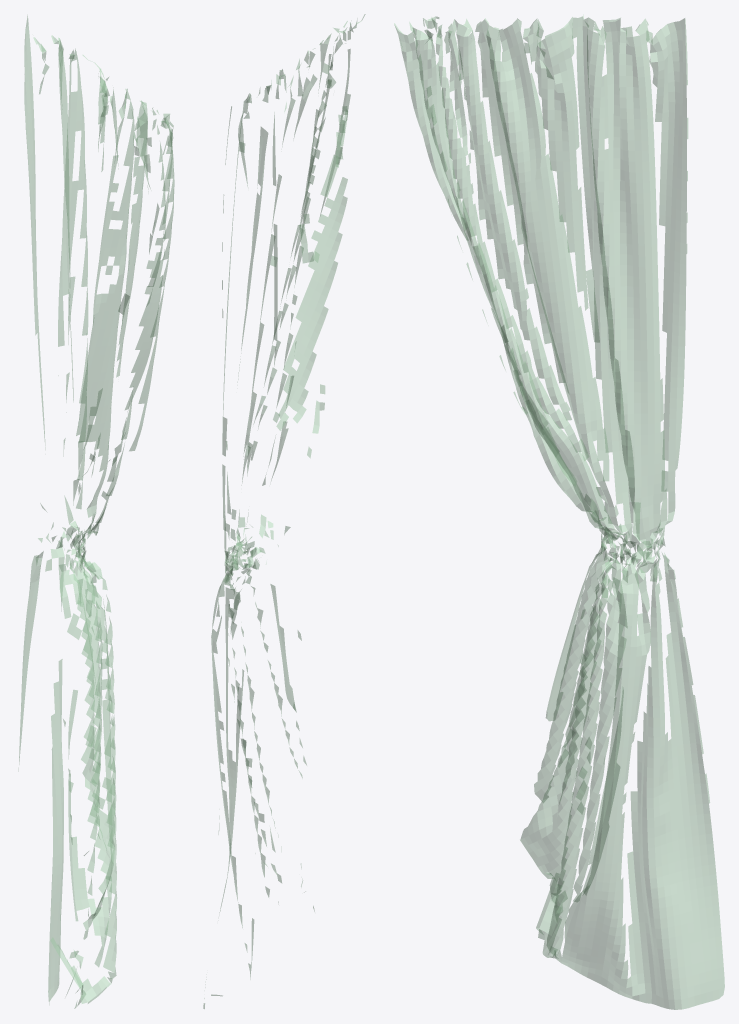
File: curtain_opened.glb
3 renders of one model, left to right at view 1: azimuth 30°, elevation 25°; view 2: azimuth 150°, elevation 25°; view 3: azimuth 270°, elevation 25°, orthographic. The views are drawn at different scales.
Parts seen in each view (by area): view 1: cartain.002; view 2: cartain.002; view 3: cartain.002.
Part boxes in pixels (<box>): cartain.002: <box>18,15,174,1008</box>; cartain.002: <box>203,14,365,1008</box>; cartain.002: <box>394,14,724,1009</box>.
Size of the model in its own units: 0.5997 by 6.17 by 1.88.
